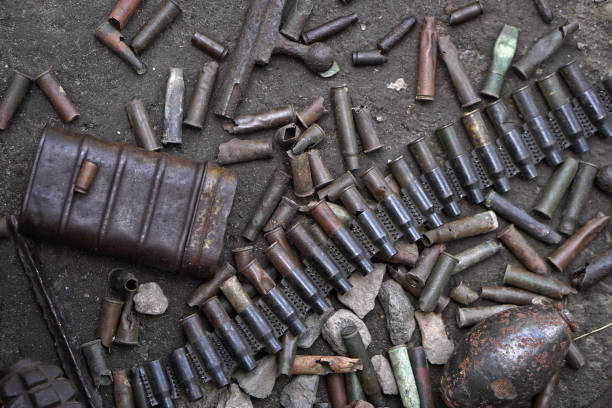e1: (437, 299, 581, 408)
